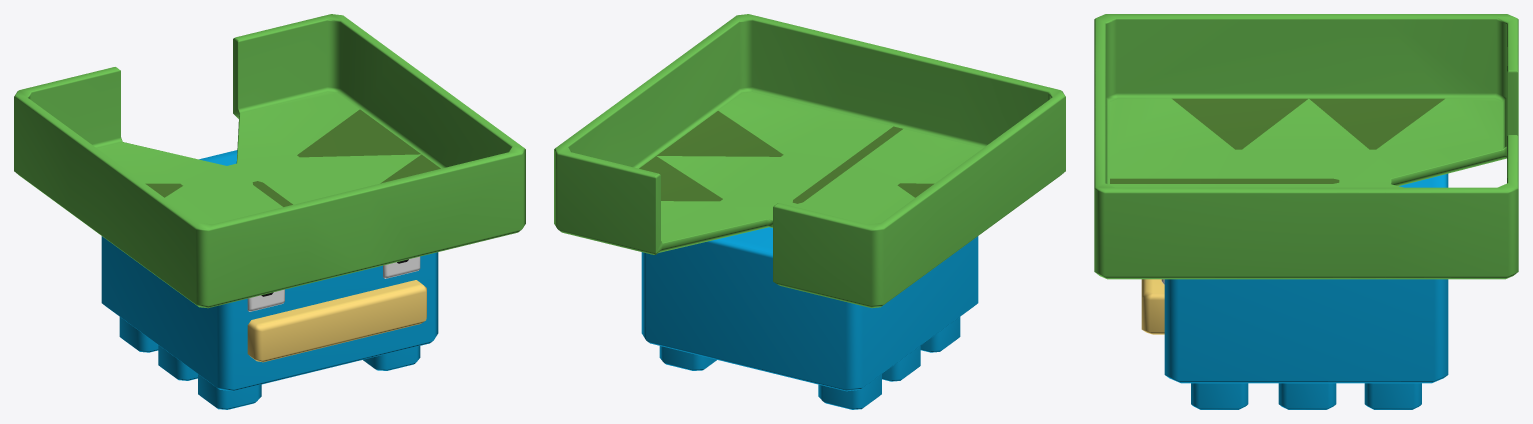
3 views of the same model, side by side, from view 1: azimuth 30°, elevation 25°; view 2: azimuth 150°, elevation 25°; view 3: azimuth 270°, elevation 25° (orthographic). The views are drawn at different scales.
Parts seen in each view (by area): view 1: 0270_lotad; view 2: 0270_lotad; view 3: 0270_lotad.
Boxes of the visible parts, <box> form: 0270_lotad: <box>14,14,525,409</box>; 0270_lotad: <box>554,14,1065,409</box>; 0270_lotad: <box>1094,14,1518,409</box>.
Bounding box in the file's own units: 1.66 × 1.1 × 1.67.
Materials: 1 (1 with a texture image).
